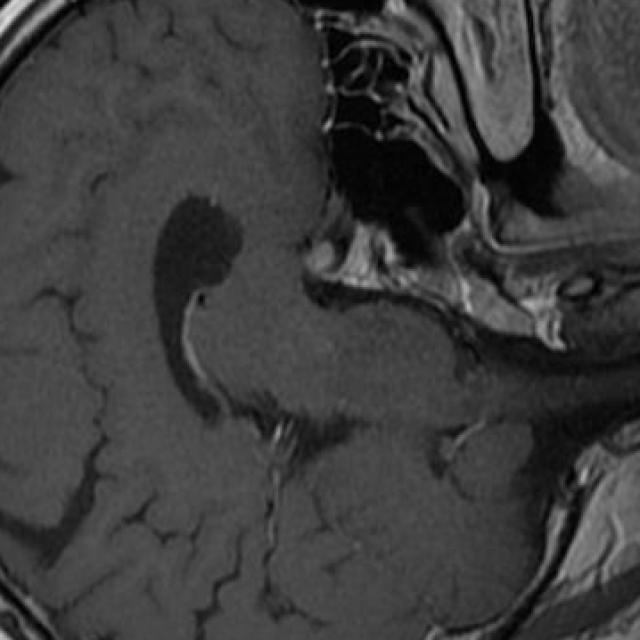pituitary: (305, 223, 389, 292)
